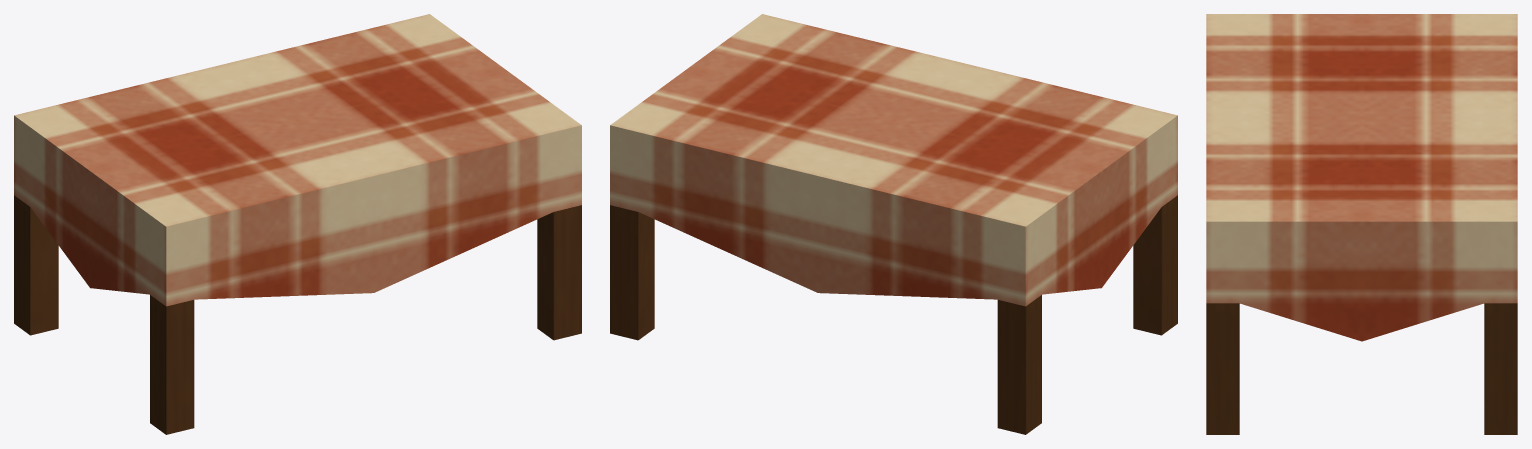
Rendered from DinnerTable.fbx.
3 renders of one model, left to right at view 1: azimuth 30°, elevation 25°; view 2: azimuth 150°, elevation 25°; view 3: azimuth 270°, elevation 25°, orthographic. The views are drawn at different scales.
Parts seen in each view (by area): view 1: DinnerTable; view 2: DinnerTable; view 3: DinnerTable.
Boxes of the visible parts, box(x1,y1,x2,y2) form: DinnerTable: box(14, 14, 581, 434); DinnerTable: box(610, 14, 1177, 434); DinnerTable: box(1206, 14, 1517, 434).
Size of the model in its own units: 469 by 297 by 225.
